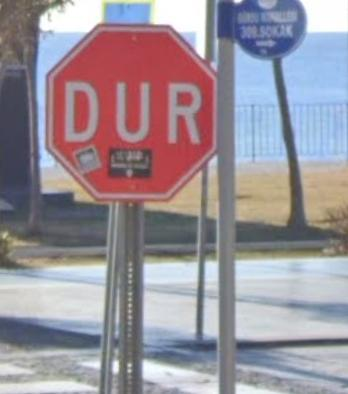stop: (46, 20, 214, 197)
